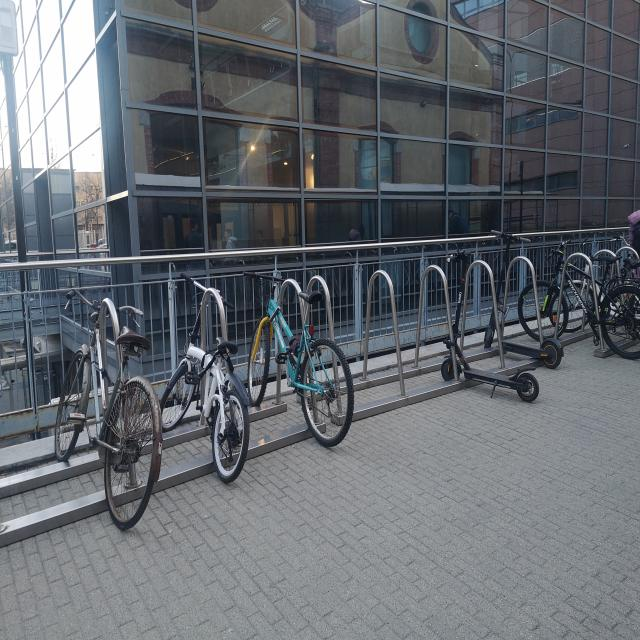Bicycle: (44, 269, 162, 561), (239, 252, 357, 463), (160, 241, 252, 500), (525, 216, 640, 367), (441, 246, 538, 420), (474, 210, 563, 379), (170, 175, 171, 189)
